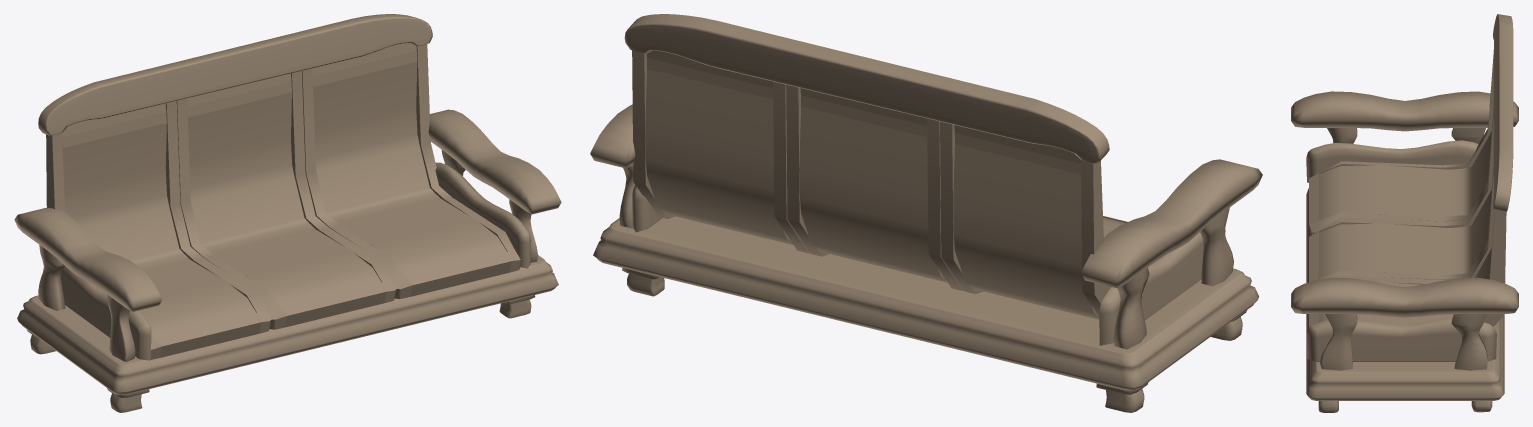
The model's file is woodchair_head.fbx.
3 renders of one model, left to right at view 1: azimuth 30°, elevation 25°; view 2: azimuth 150°, elevation 25°; view 3: azimuth 270°, elevation 25°, orthographic. The views are drawn at different scales.
Parts seen in each view (by area): view 1: woodchair_head; view 2: woodchair_head; view 3: woodchair_head.
Boxes of the visible parts, box(x1,y1,x2,y2) form: woodchair_head: box(14, 14, 561, 412); woodchair_head: box(590, 14, 1262, 412); woodchair_head: box(1291, 14, 1518, 412).
Size of the model in its own units: 358 by 186 by 166.
